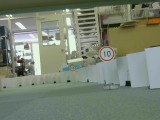speed_10: (97, 45, 117, 63)
